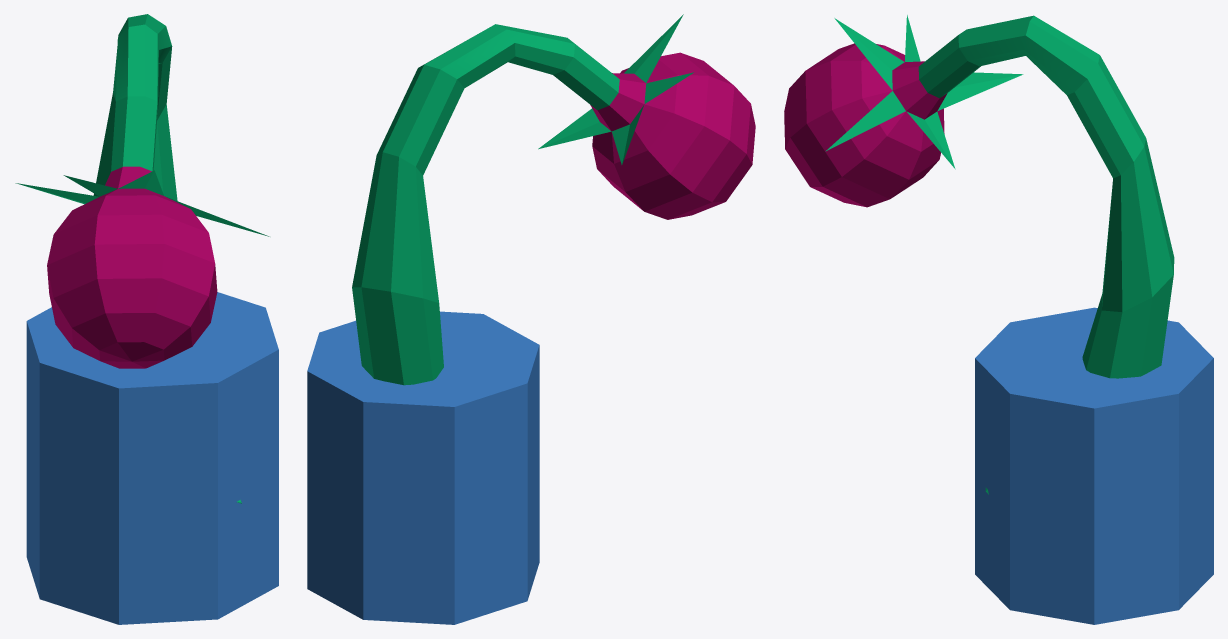
The model's file is flower and fern.fbx.
3 renders of one model, left to right at view 1: azimuth 30°, elevation 25°; view 2: azimuth 150°, elevation 25°; view 3: azimuth 270°, elevation 25°, orthographic. The views are drawn at different scales.
Visible parts, largest first — view 1: pCylinder14, pSphere5; view 2: pCylinder14, pSphere5; view 3: pCylinder14, pSphere5.
Part boxes in pixels (<box>): pCylinder14: <box>26,292,278,624</box>; pSphere5: <box>15,14,269,503</box>; pCylinder14: <box>307,311,539,624</box>; pSphere5: <box>352,14,755,385</box>; pCylinder14: <box>975,307,1213,624</box>; pSphere5: <box>784,15,1174,494</box>.
Size of the model in its own units: 2.99 by 4.93 by 3.6.
